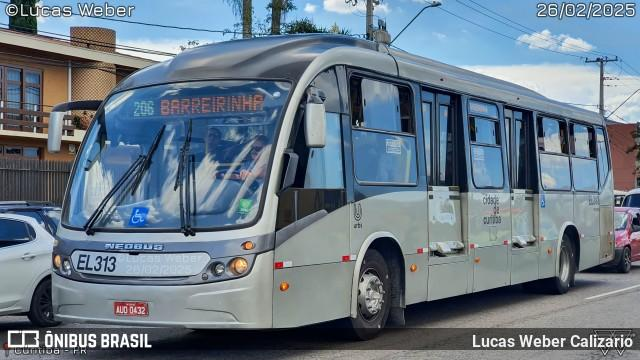BARREIRINHA: (157, 91, 270, 118)
